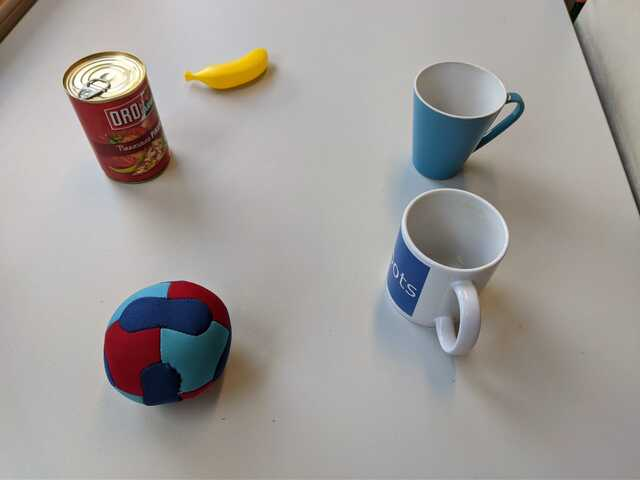005_tomato_soup_can: (60, 48, 174, 187)
011_banana: (177, 41, 276, 95)
025_mug: (384, 185, 513, 359), (407, 56, 528, 183)
057_racquetball: (99, 277, 235, 409)
